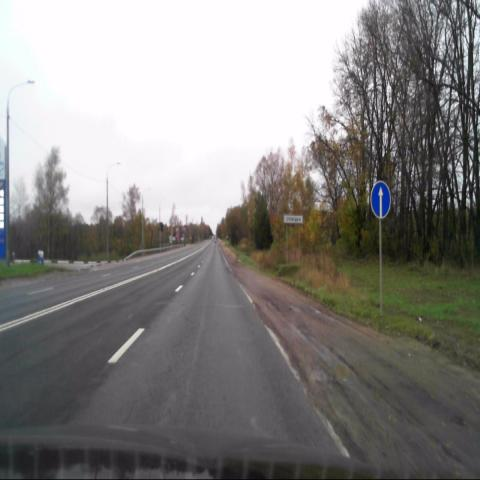4_1_1: (370, 182, 391, 220)
